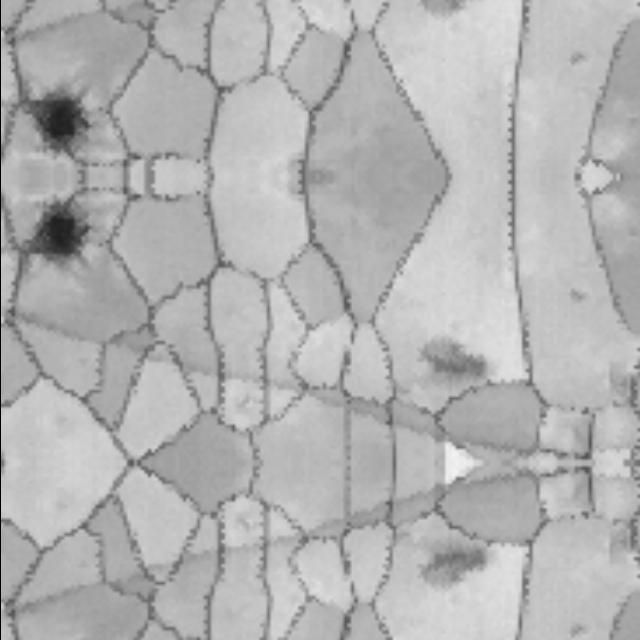good_void: (2, 193, 99, 291), (2, 61, 99, 159), (403, 324, 507, 400), (403, 526, 507, 601), (410, 0, 494, 23), (560, 277, 603, 317), (560, 35, 603, 75), (560, 616, 598, 640)
